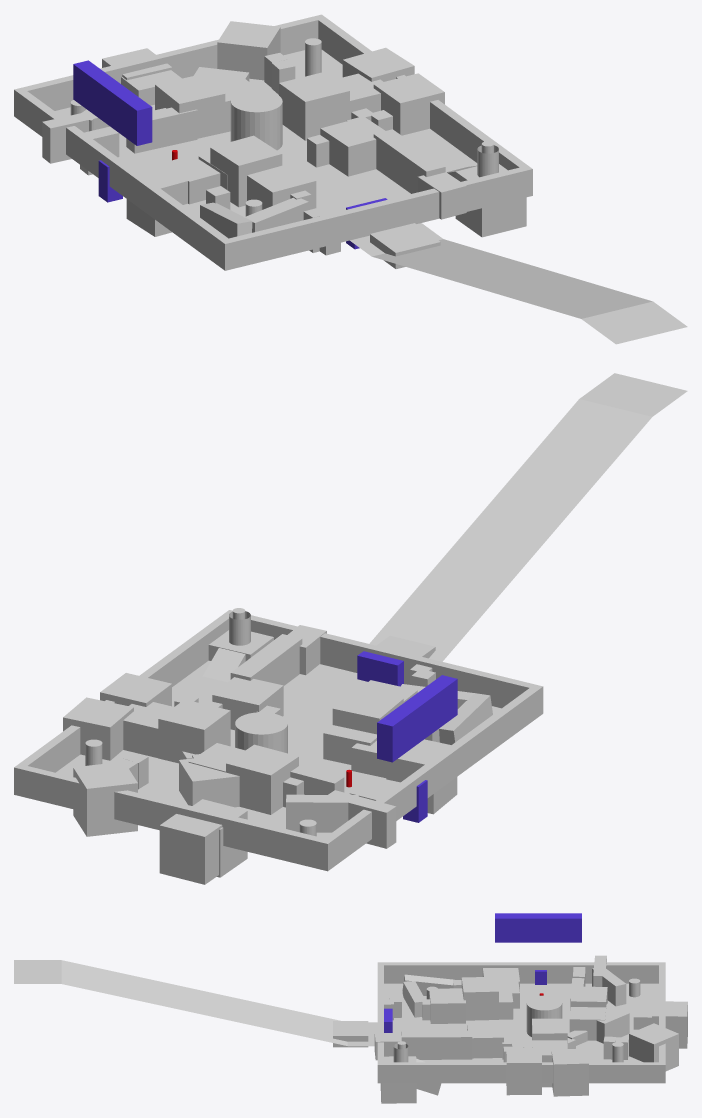
The model's file is ReactorBlock.fbx.
The picture shows the model from 3 angles, top to bottom: view 1: azimuth 30°, elevation 25°; view 2: azimuth 150°, elevation 25°; view 3: azimuth 270°, elevation 25°; orthographic projection. The views are drawn at different scales.
Parts seen in each view (by area): view 1: Plane, Plane.001, Cube.042, Cube.002, Cube.003, Cube.019, Cube.015, Cube.012, Cylinder, Cube.022, Cube.038, Cube.001 (+20 smaller); view 2: Plane, Plane.001, Cube.042, Cube.013, Cube.019, Cube.002, Cube.003, Cube.014, Cube.038, Cube.009, Cube.022, Cube.028 (+16 smaller); view 3: Plane, Plane.001, Cube.042, Cube.038, Cube.014, Cube.015, Cube.019, Cube.012, Cube.001, Cube.022, Cube.013, Cube.009 (+16 smaller).
Part boxes in pixels (x1,y1,x2,y2): Plane: (14,14,532,270); Plane.001: (350,223,687,344); Cube.042: (73,60,152,145); Cube.002: (279,72,349,140); Cube.003: (155,74,225,138); Cube.019: (217,21,280,80); Cube.015: (373,73,444,135); Cube.012: (210,135,282,207); Cylinder: (230,90,282,150); Cube.022: (320,117,385,176); Cube.038: (373,129,445,193); Cube.001: (247,162,316,209); Plane: (14,610,543,871); Plane.001: (369,373,687,661); Cube.042: (377,675,457,762); Cube.013: (159,814,222,884); Cube.019: (73,761,137,836); Cube.002: (158,699,230,763); Cube.003: (226,744,298,814); Cube.014: (63,697,133,760); Cube.038: (230,634,302,685); Cube.009: (179,758,239,807); Cube.022: (212,677,283,730); Cube.028: (286,794,358,832); Plane: (377,962,665,1083); Plane.001: (14,960,377,1046); Cube.042: (495,913,581,942); Cube.038: (401,1030,472,1059); Cube.014: (551,1048,588,1096); Cube.015: (506,1048,541,1095); Cube.019: (629,1023,678,1071); Cube.012: (461,976,498,1020); Cube.001: (429,988,465,1023); Cube.022: (467,1022,503,1058); Cube.013: (652,1001,687,1048); Cube.009: (596,1003,629,1043).
Size of the model in its own units: 1487 by 550 by 3808.
